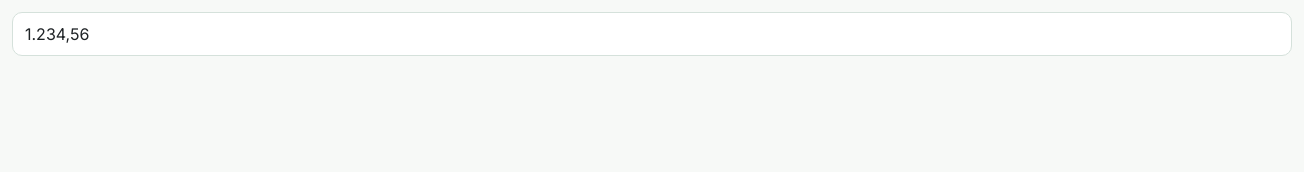
Scenario: MoneyInput › mantém valor existente ao focar, seleciona para substituição e formata em pt-BR no blur
The width and height of the screenshot is (1304, 172).
Later steps or results of the test are not shown.
Click the field named "Preço" at x=652, y=34, box [12, 12, 1292, 56]
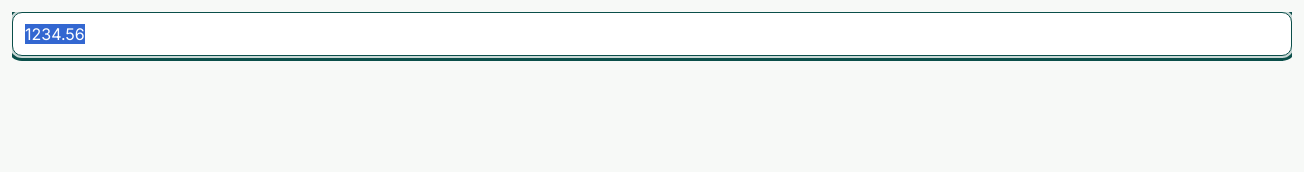
Expected: the field named "Preço" holds "1234.56", [12, 12, 1292, 56]
